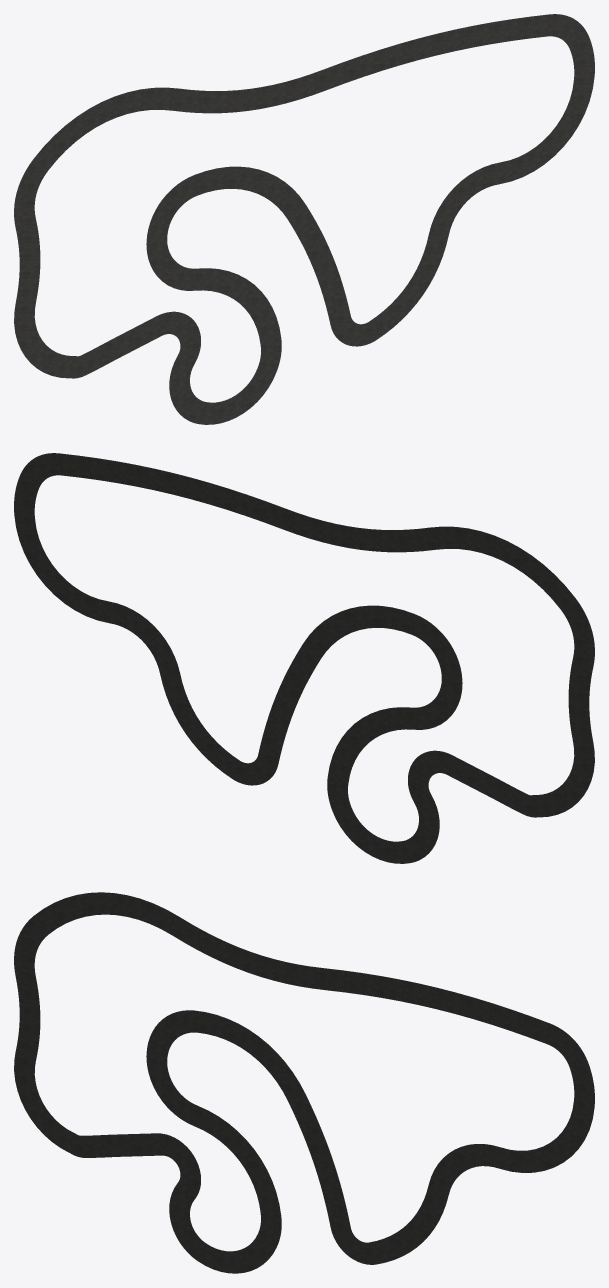
The model's file is track5_road.obj.
3 renders of one model, top to bottom at view 1: azimuth 30°, elevation 25°; view 2: azimuth 150°, elevation 25°; view 3: azimuth 330°, elevation 25°, orthographic.
Parts seen in each view (by area): view 1: road_0_curve_; view 2: road_0_curve_; view 3: road_0_curve_.
Boxes of the visible parts, x1,y1,x2,y2 form: road_0_curve_: (14,14,594,424); road_0_curve_: (14,453,594,863); road_0_curve_: (14,892,594,1273).
Bounding box in the file's own units: 45.84 × 26.68 × 0.
Materials: 1 (1 with a texture image).
